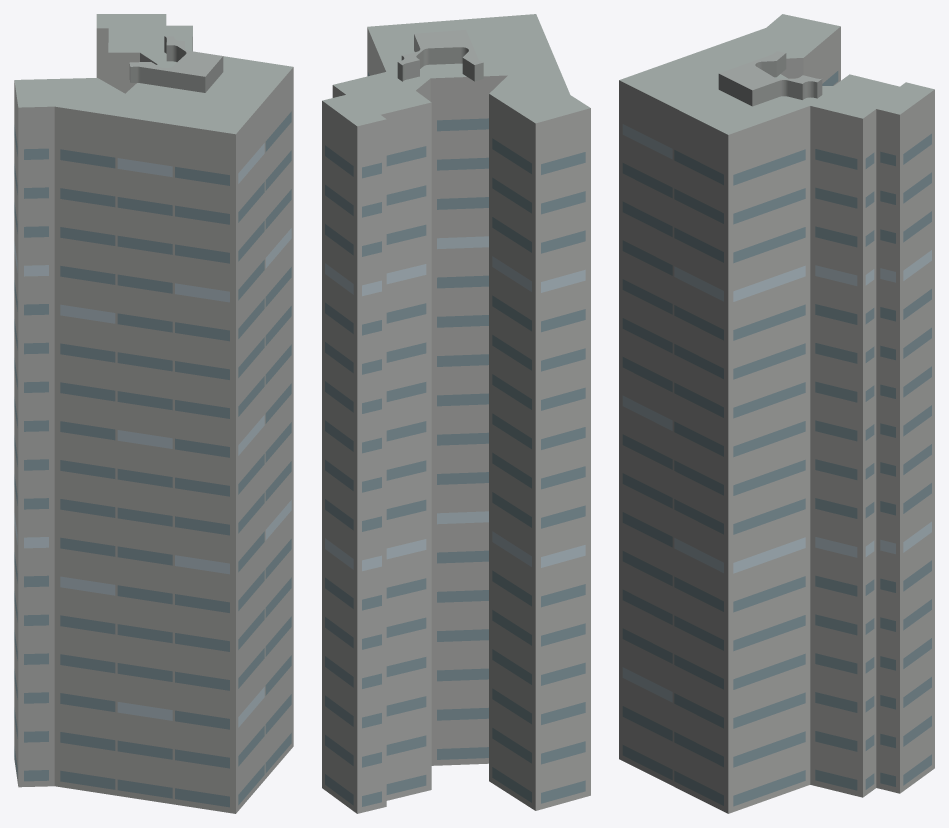
The model's file is fallback-seoulforest-riverview-xi-105.glb.
The picture shows the model from 3 angles, left to right: view 1: azimuth 30°, elevation 25°; view 2: azimuth 150°, elevation 25°; view 3: azimuth 270°, elevation 25°; orthographic projection.
Visible parts, largest first — view 1: fallback-seoulforest-riverview-xi-105; view 2: fallback-seoulforest-riverview-xi-105; view 3: fallback-seoulforest-riverview-xi-105.
Boxes of the visible parts, x1,y1,x2,y2 form: fallback-seoulforest-riverview-xi-105: (14, 14, 293, 813); fallback-seoulforest-riverview-xi-105: (322, 14, 590, 813); fallback-seoulforest-riverview-xi-105: (619, 14, 934, 813).
Size of the model in its own units: 38.44 by 103 by 42.41.
